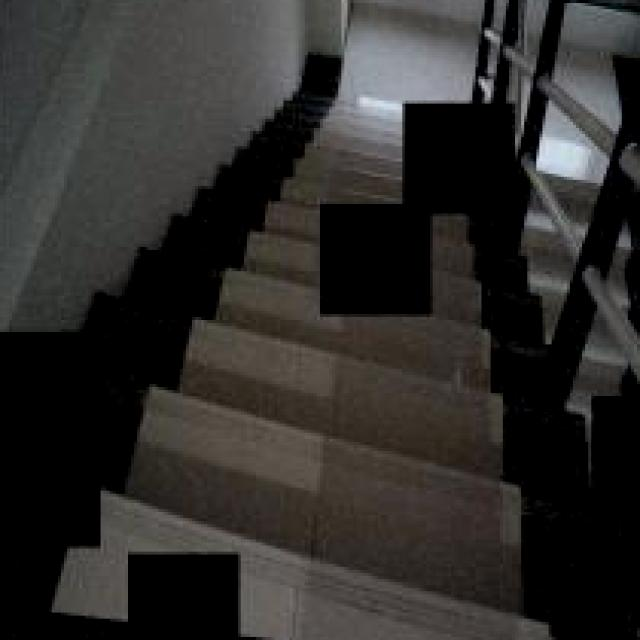downstair: (285, 333, 547, 640)
